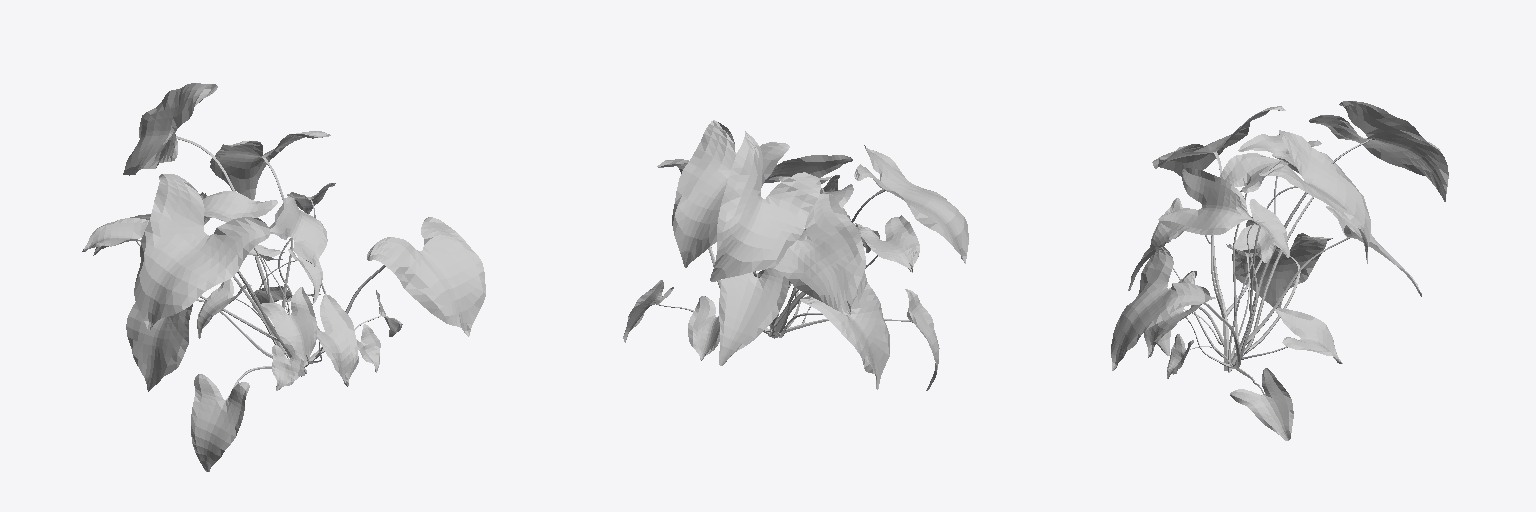
Rendered from plant.obj.
3 views of the same model, side by side, from view 1: azimuth 30°, elevation 25°; view 2: azimuth 150°, elevation 25°; view 3: azimuth 270°, elevation 25° (orthographic).
Parts seen in each view (by area): view 1: potted_plant_02_leaves; view 2: potted_plant_02_leaves; view 3: potted_plant_02_leaves.
Part boxes in pixels (bbox=[...]): potted_plant_02_leaves: bbox=[82, 83, 485, 471]; potted_plant_02_leaves: bbox=[623, 120, 968, 390]; potted_plant_02_leaves: bbox=[1111, 101, 1448, 440].
Bounding box in the file's own units: 0.7012 × 0.6326 × 0.6432.